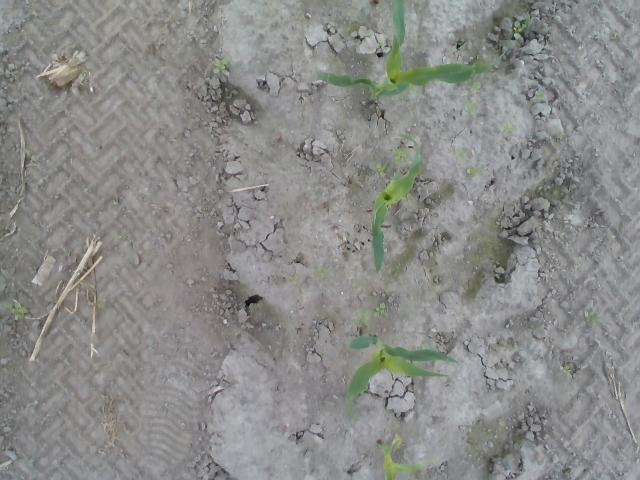Maize: (318, 0, 492, 104), (346, 333, 460, 416), (369, 133, 424, 273), (382, 438, 426, 480)
Weeds: (4, 301, 28, 321), (351, 310, 373, 327), (374, 302, 391, 320), (392, 146, 409, 163), (512, 20, 526, 40), (212, 58, 230, 73), (374, 162, 390, 177), (398, 130, 417, 142), (468, 80, 481, 93), (453, 150, 468, 161), (464, 102, 476, 114), (560, 364, 572, 376), (466, 166, 480, 176), (584, 311, 597, 321)
